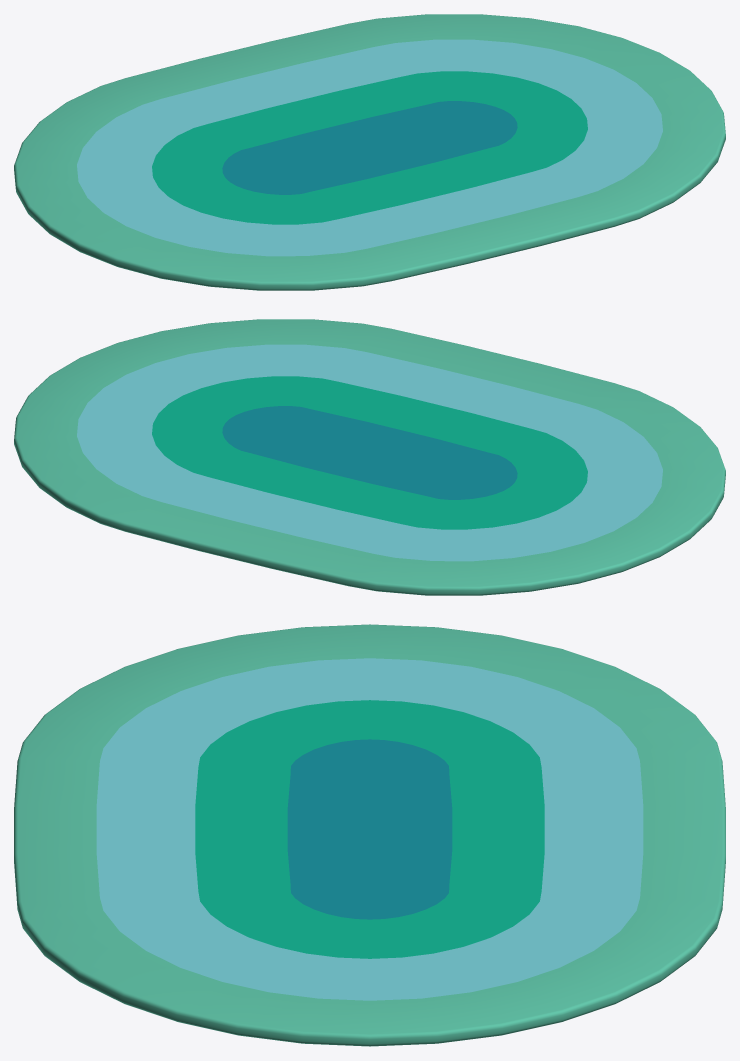
File: Carpet.glb
3 renders of one model, top to bottom at view 1: azimuth 30°, elevation 25°; view 2: azimuth 150°, elevation 25°; view 3: azimuth 270°, elevation 25°, orthographic. The views are drawn at different scales.
Parts seen in each view (by area): view 1: Carpet; view 2: Carpet; view 3: Carpet.
Boxes of the visible parts, x1=… form: Carpet: x1=14, y1=14, x2=725, y2=290; Carpet: x1=14, y1=319, x2=725, y2=595; Carpet: x1=14, y1=624, x2=725, y2=1046.
Size of the model in its own units: 2.83 by 0.0382 by 2.06.
1 material, 1 textured.
